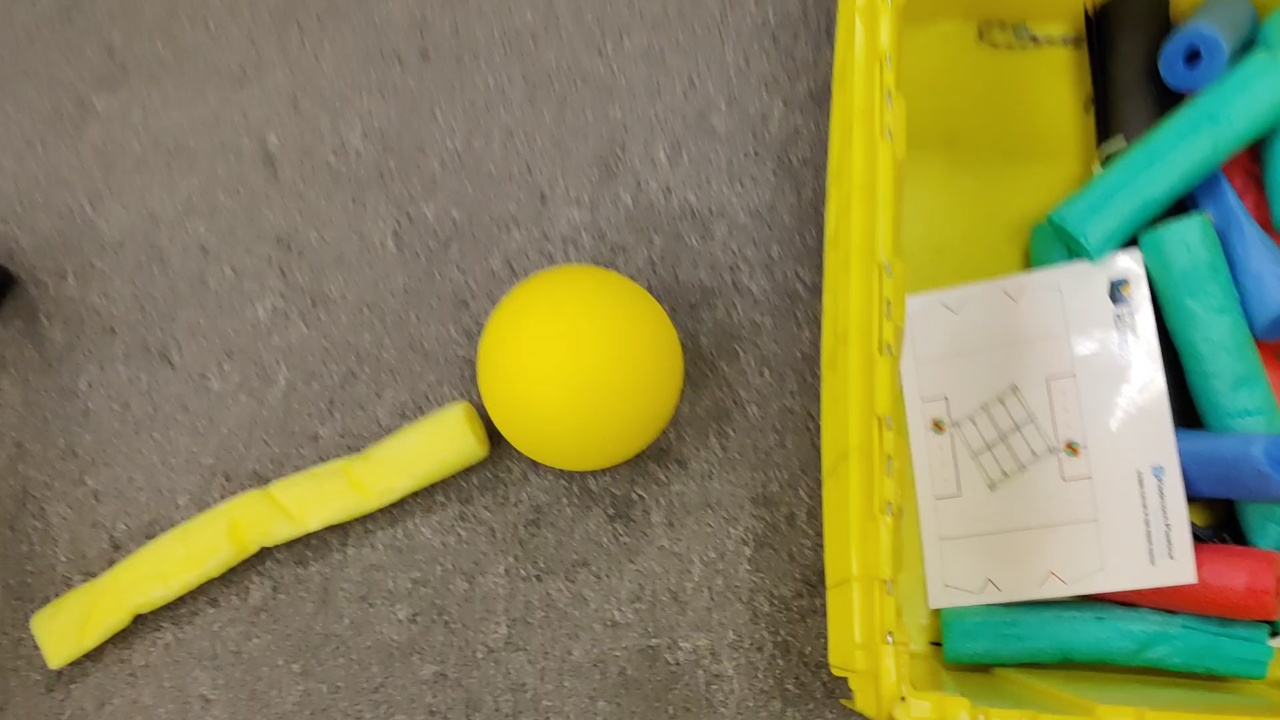Ball: (477, 261, 683, 473)
